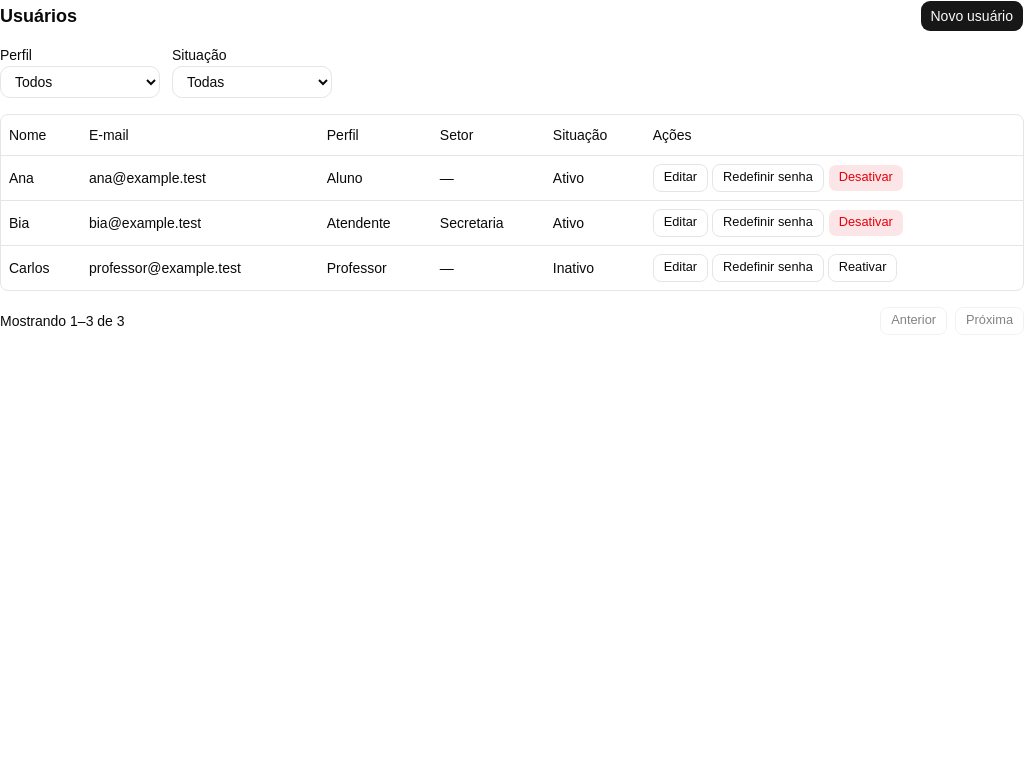
Test: UsersTab (US4.1) › asks for confirmation before deactivating and shows a refusal on the row (BR3.9, BR4.8)
The image size is (1024, 768).
Expected: the cell "Ana" is shown, [1,155,81,200]
Click the button with aria-label "Desativar Ana" at (866, 178), box [828,164,904,192]
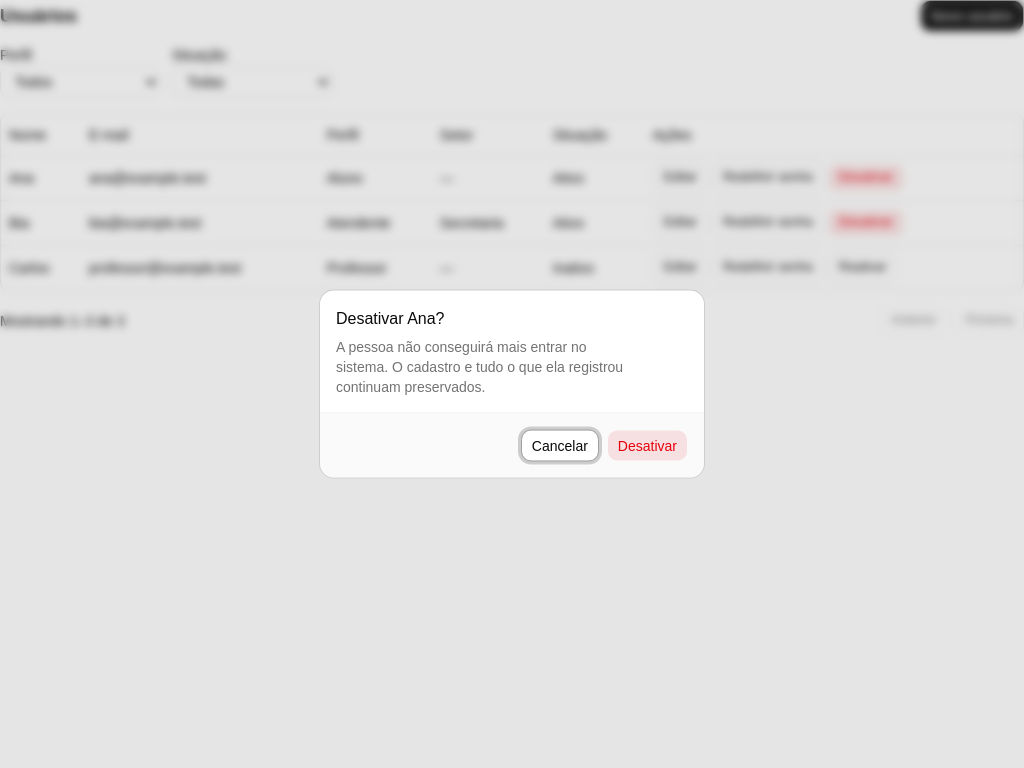
Click the button "Desativar" at (647, 446), box [607,430,688,462]
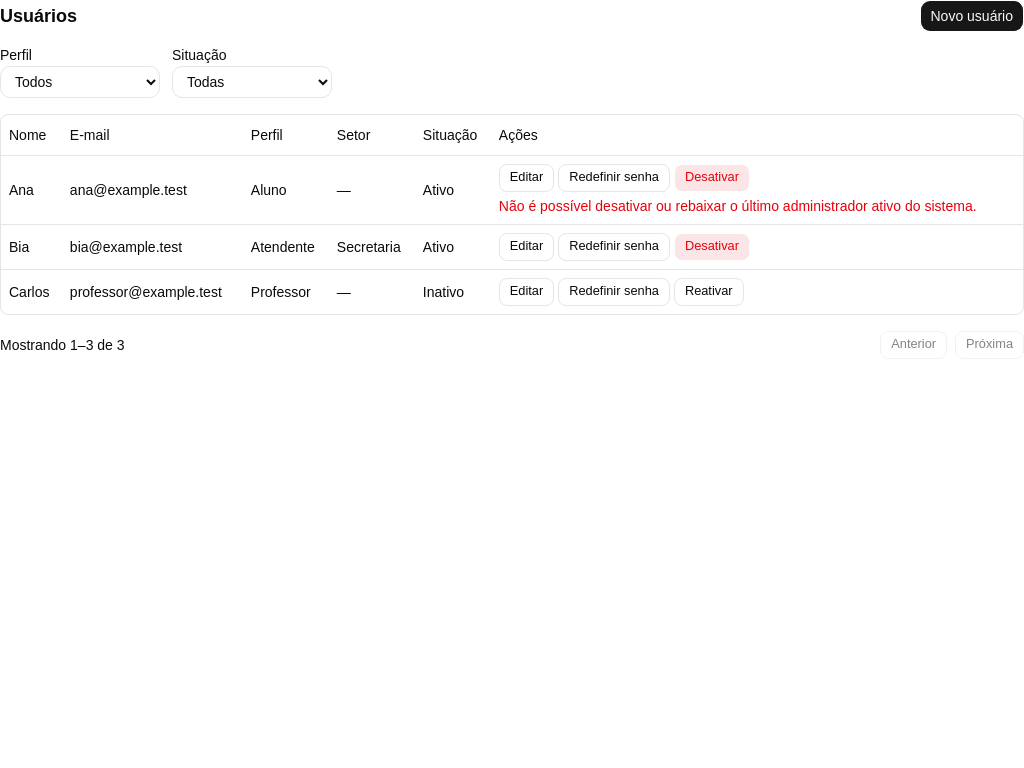
Expected: the message reads "Não é possível desativar ou rebaixar o último administrador ativo do sistema.", [499,198,977,214]
